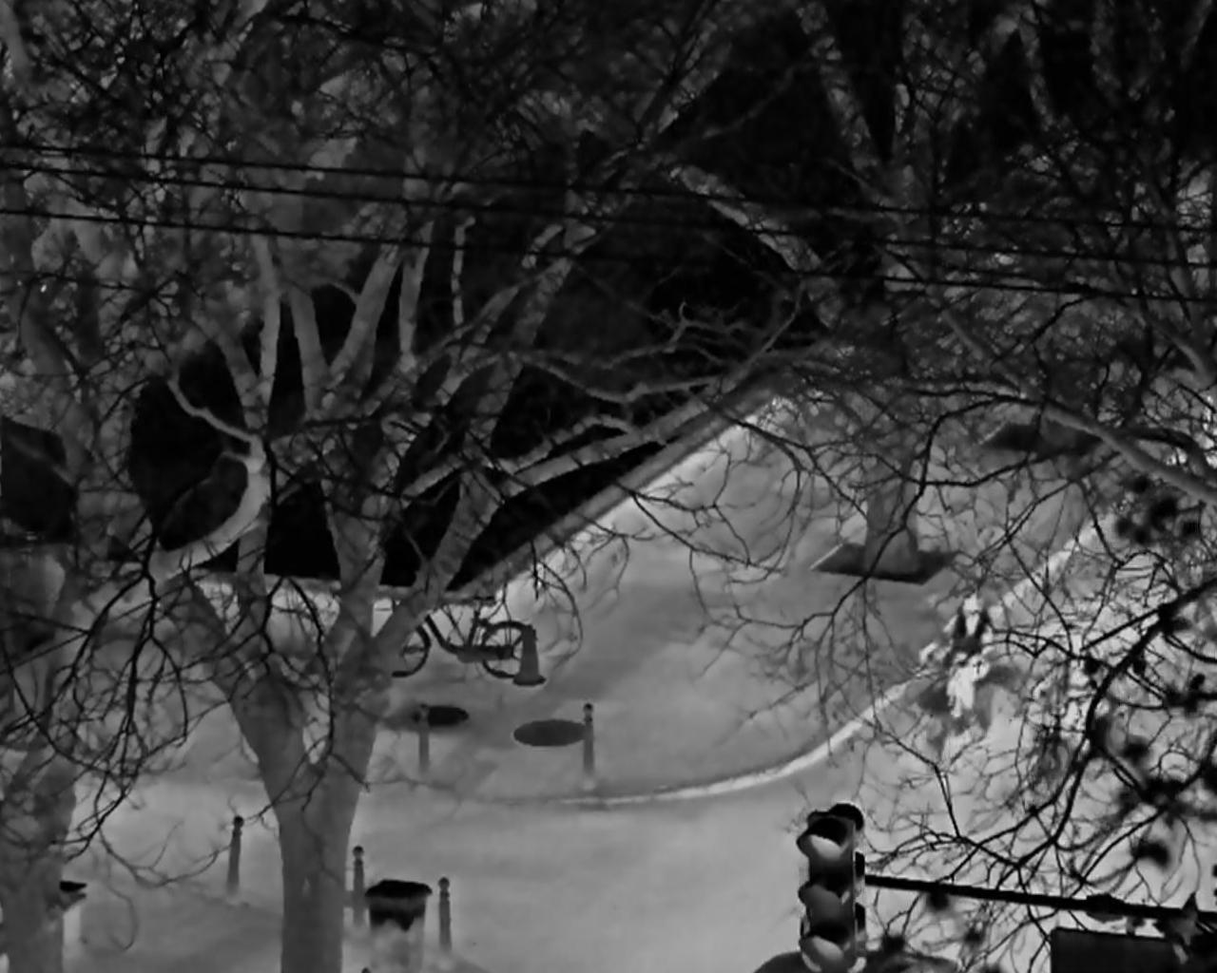person: (917, 586, 995, 722)
